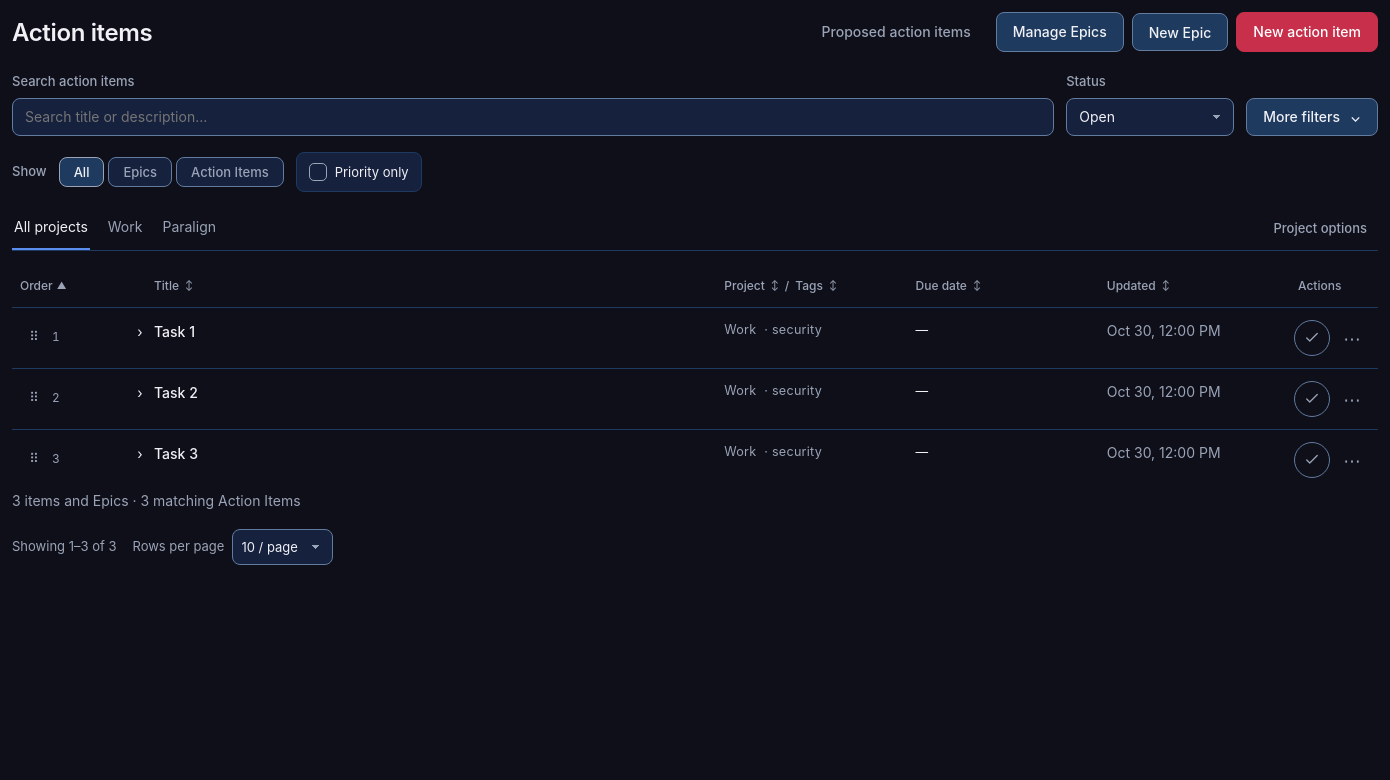
ActionItemsIndexPage › starts with two visible row actions and keeps secondary filters and project administration out of the list
Expected: the button "› Task 1" is shown, [132, 320, 708, 345]
Expected: the checkbox labelled "Deadline window" is not shown
Click the button "More filters ⌄".
click(1312, 117)  # box [1246, 98, 1378, 136]
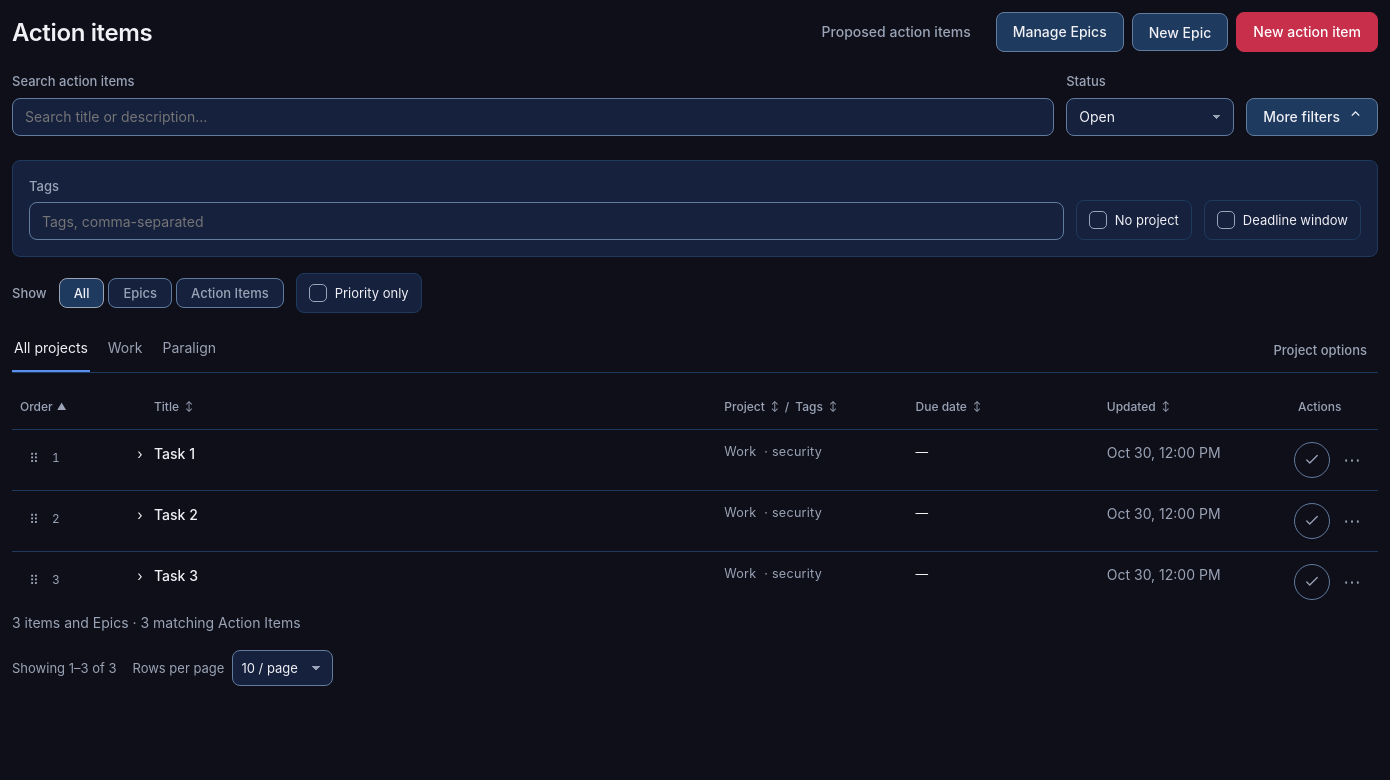
Expected: the checkbox labelled "Deadline window" is shown, [1217, 211, 1235, 229]
